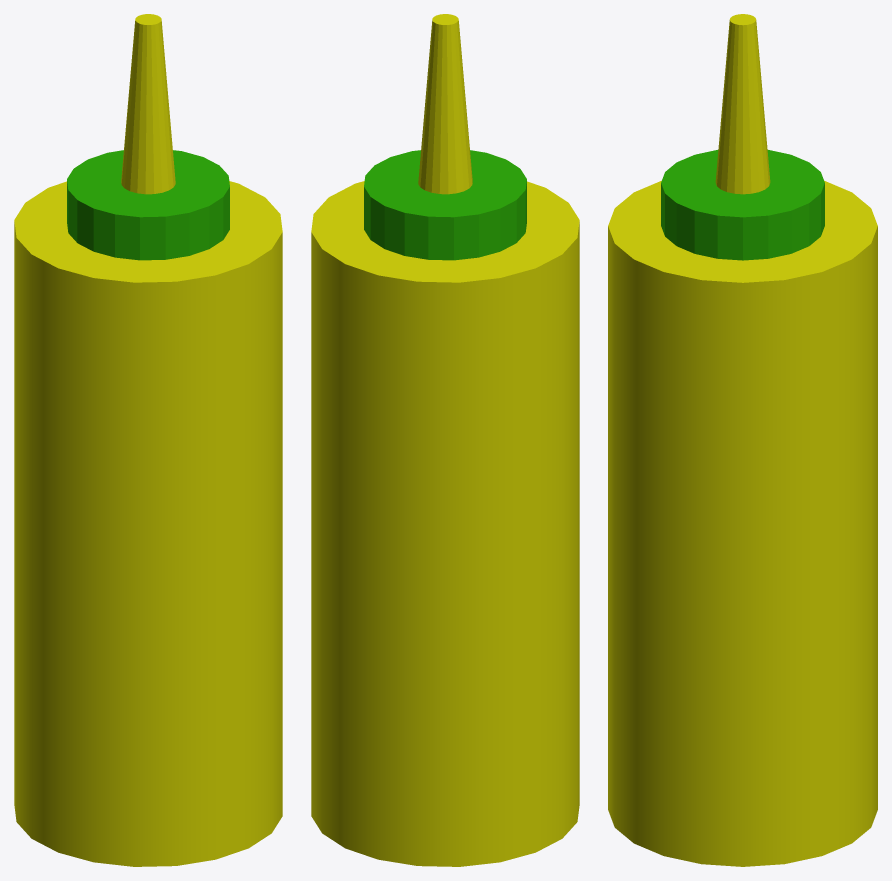
The model's file is mayonnaise.fbx.
The picture shows the model from 3 angles, left to right: view 1: azimuth 30°, elevation 25°; view 2: azimuth 150°, elevation 25°; view 3: azimuth 270°, elevation 25°; orthographic projection.
Visible parts, largest first — view 1: mayonnaise; view 2: mayonnaise; view 3: mayonnaise.
Boxes of the visible parts, bbox=[...] form: mayonnaise: bbox=[14, 14, 282, 866]; mayonnaise: bbox=[311, 14, 579, 866]; mayonnaise: bbox=[608, 14, 877, 866].
Size of the model in its own units: 17.03 by 55.06 by 17.03.
